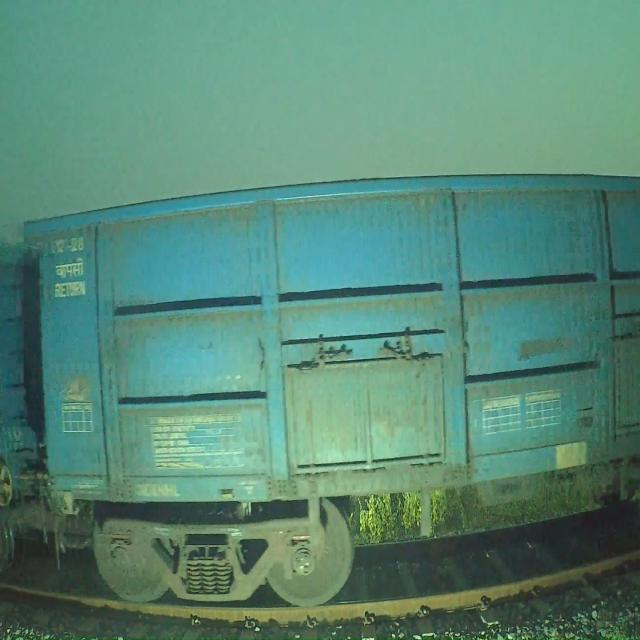WAgon-uic: (23, 170, 640, 607), (0, 242, 108, 568)
